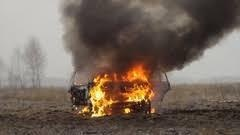fire: (80, 62, 156, 118)
